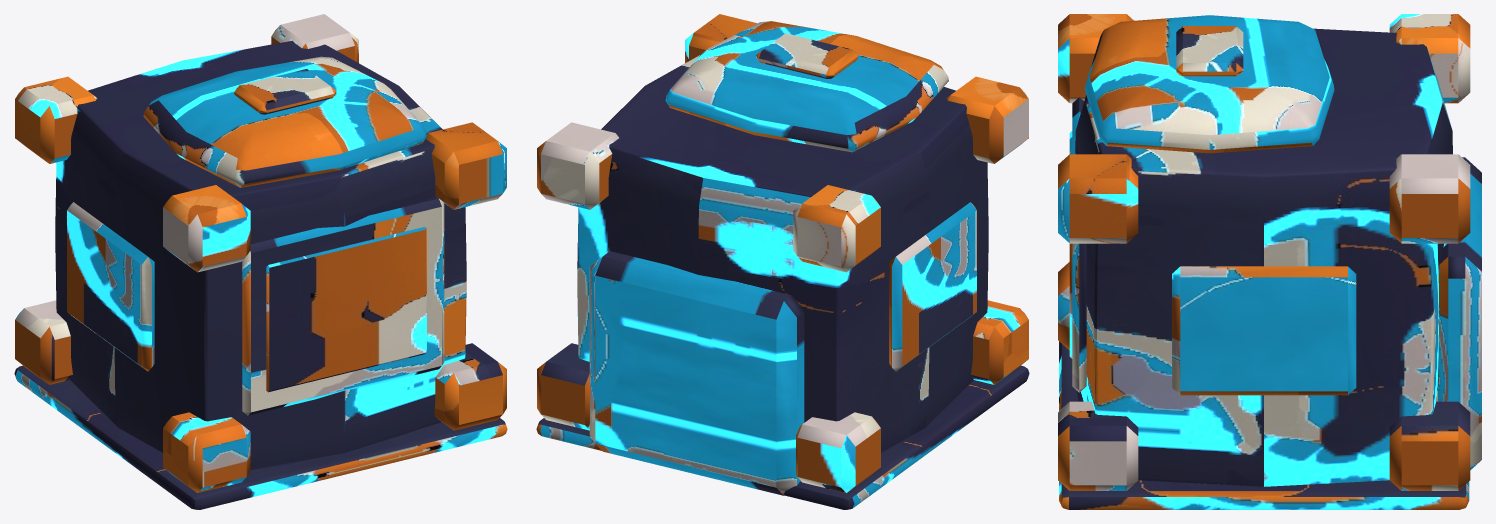
The model's file is R4X_Battery.fbx.
3 renders of one model, left to right at view 1: azimuth 30°, elevation 25°; view 2: azimuth 150°, elevation 25°; view 3: azimuth 270°, elevation 25°, orthographic. The views are drawn at different scales.
Visible parts, largest first — view 1: R4X_Battery_Body, R4X_Battery_Cap; view 2: R4X_Battery_Body, R4X_Battery_Cap; view 3: R4X_Battery_Body, R4X_Battery_Cap.
Part boxes in pixels (bbox=[...]): R4X_Battery_Body: bbox=[14, 14, 507, 509]; R4X_Battery_Cap: bbox=[143, 56, 426, 187]; R4X_Battery_Body: bbox=[536, 14, 1029, 509]; R4X_Battery_Cap: bbox=[665, 21, 948, 152]; R4X_Battery_Body: bbox=[1058, 14, 1481, 509]; R4X_Battery_Cap: bbox=[1085, 15, 1334, 153].
Size of the model in its own units: 0.492 by 0.504 by 0.506.
